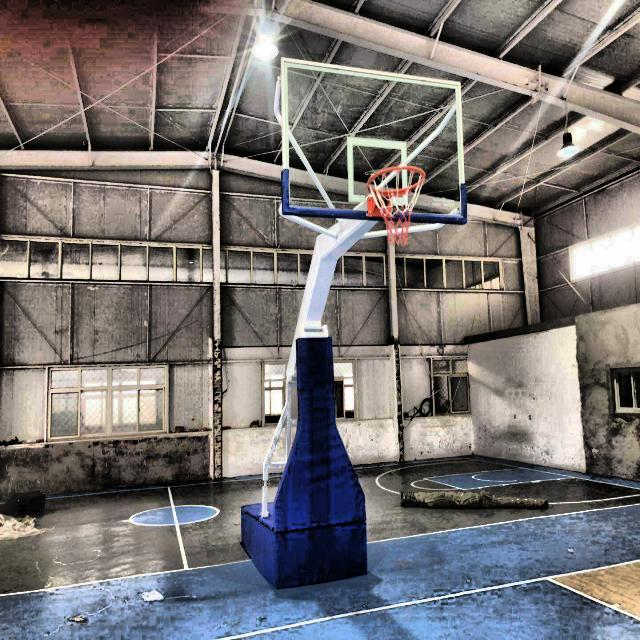rim: (369, 166, 425, 241)
